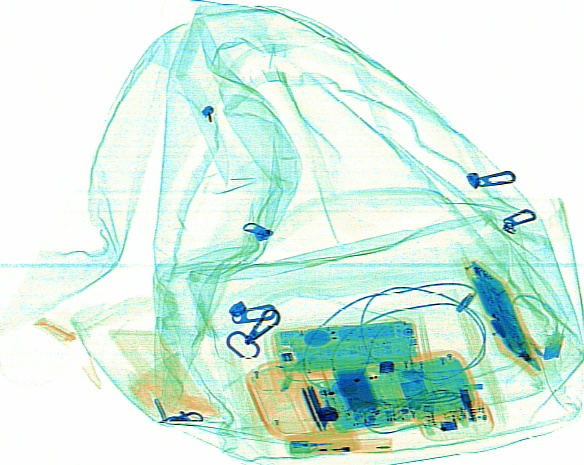lighter: (286, 435, 394, 459)
